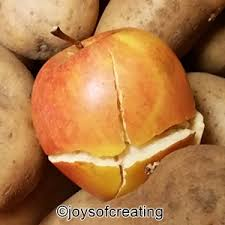damaged_apple: (35, 33, 204, 193)
